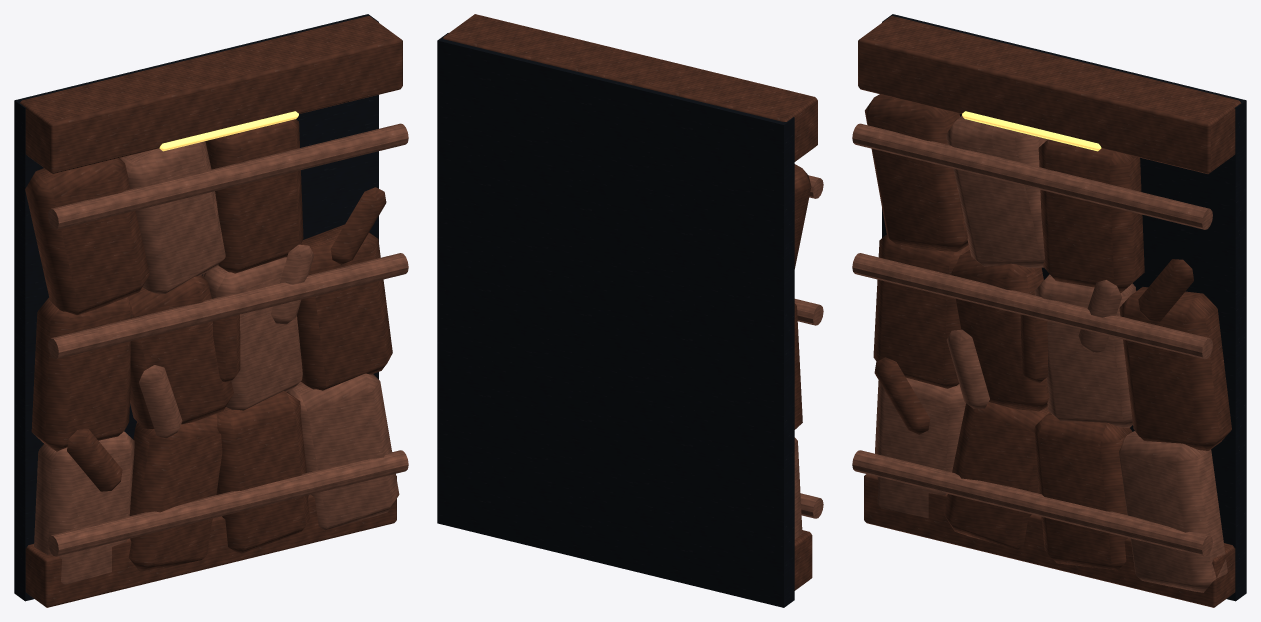
The model's file is scrapyard_expanse_room.glb.
The picture shows the model from 3 angles, left to right: view 1: azimuth 30°, elevation 25°; view 2: azimuth 150°, elevation 25°; view 3: azimuth 330°, elevation 25°; orthographic projection. The views are drawn at different scales.
Parts seen in each view (by area): view 1: scrapyard_expanse_room - scrapyard_expanse panels, scrapyard_expanse_room - scrapyard_expanse trim, scrapyard_expanse_room - Recessed iron, scrapyard_expanse_room - scrapyard_expanse accents; view 2: scrapyard_expanse_room - Recessed iron, scrapyard_expanse_room - scrapyard_expanse panels, scrapyard_expanse_room - scrapyard_expanse trim; view 3: scrapyard_expanse_room - scrapyard_expanse panels, scrapyard_expanse_room - scrapyard_expanse trim, scrapyard_expanse_room - Recessed iron, scrapyard_expanse_room - scrapyard_expanse accents.
Boxes of the visible parts, left/top/right/bottom form: scrapyard_expanse_room - scrapyard_expanse panels: left=20, top=16, right=402, bottom=607; scrapyard_expanse_room - scrapyard_expanse trim: left=34, top=123, right=408, bottom=584; scrapyard_expanse_room - Recessed iron: left=14, top=14, right=378, bottom=601; scrapyard_expanse_room - scrapyard_expanse accents: left=159, top=111, right=298, bottom=151; scrapyard_expanse_room - Recessed iron: left=437, top=33, right=794, bottom=607; scrapyard_expanse_room - scrapyard_expanse panels: left=443, top=14, right=817, bottom=590; scrapyard_expanse_room - scrapyard_expanse trim: left=794, top=175, right=823, bottom=539; scrapyard_expanse_room - scrapyard_expanse panels: left=858, top=16, right=1240, bottom=607; scrapyard_expanse_room - scrapyard_expanse trim: left=852, top=115, right=1227, bottom=592; scrapyard_expanse_room - Recessed iron: left=882, top=14, right=1246, bottom=601; scrapyard_expanse_room - scrapyard_expanse accents: left=962, top=111, right=1101, bottom=151.
Bounding box in the file's own units: 6.1 × 8.03 × 1.25.
4 materials, 3 textured.
